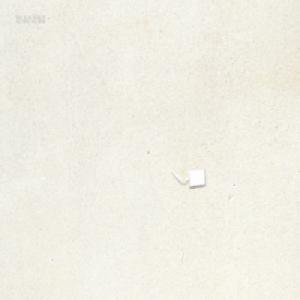LuggageTag: (170, 167, 205, 189)
